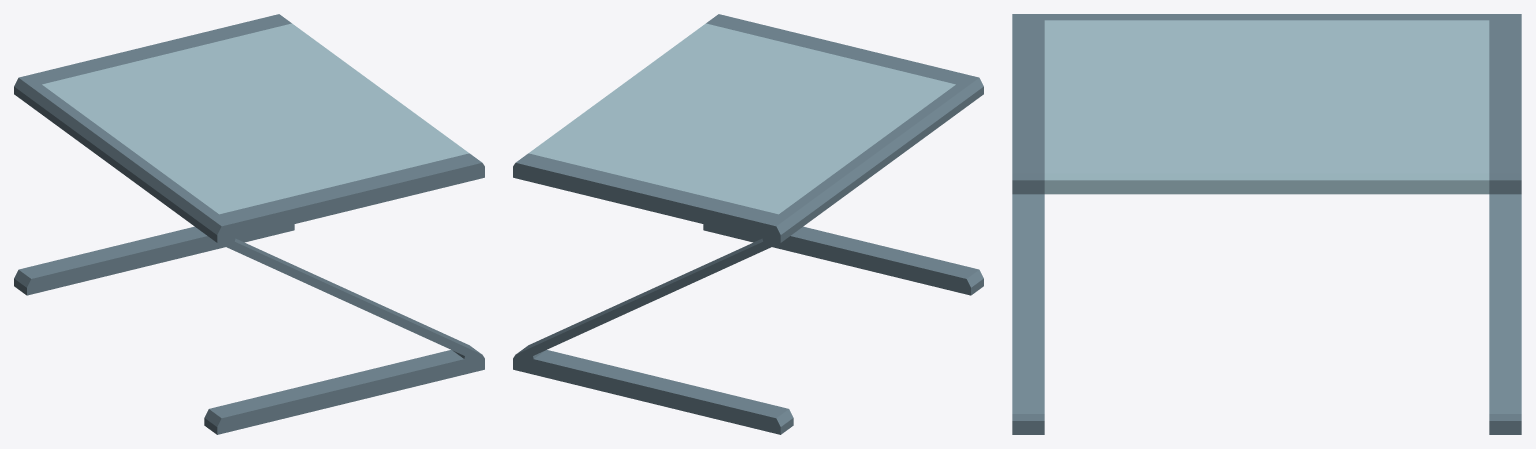
File: table-02.fbx
3 renders of one model, left to right at view 1: azimuth 30°, elevation 25°; view 2: azimuth 150°, elevation 25°; view 3: azimuth 270°, elevation 25°, orthographic. The views are drawn at different scales.
Visible parts, largest first — view 1: table-02; view 2: table-02; view 3: table-02.
Boxes of the visible parts, x1,y1,x2,y2 form: table-02: (14, 14, 484, 434); table-02: (513, 14, 983, 434); table-02: (1012, 14, 1521, 434).
Size of the model in its own units: 54 by 40 by 71.
